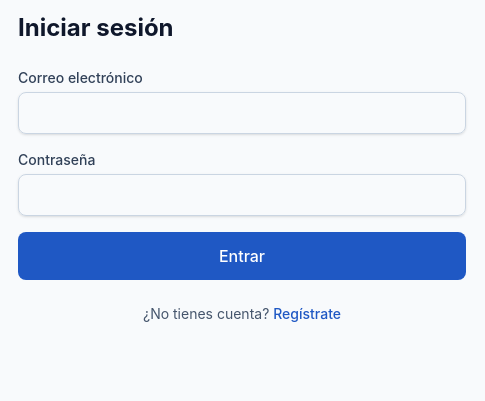
it: LoginPage › muestra el mensaje del servidor cuando las credenciales son inválidas
This screenshot has width=485, height=401.
Type "ana@test.dev" into the field labelled "Correo electrónico" at (242, 113), box top-left (18, 92), bottom-right (466, 134)
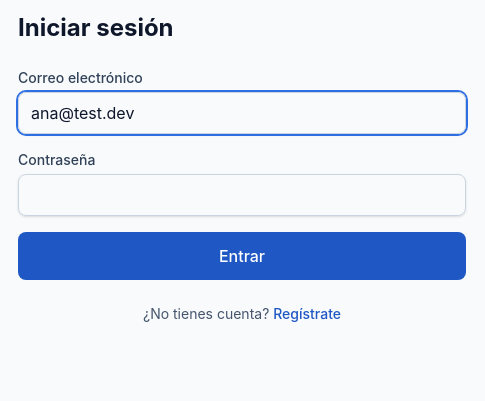
Type "Incorrecta1" into the password field labelled "Contraseña" at (242, 195), box top-left (18, 174), bottom-right (466, 216)
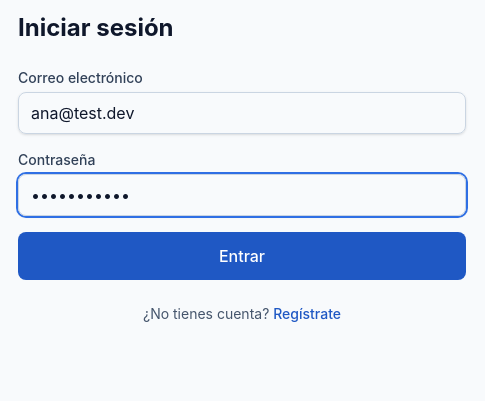
Click the button "Entrar" at (242, 256), box top-left (18, 232), bottom-right (466, 280)
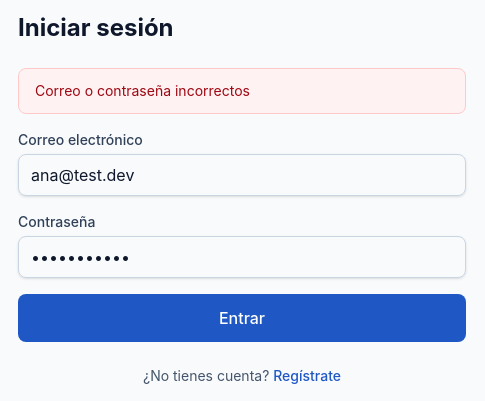
Check: the message reads "Correo o contraseña incorrectos", box top-left (35, 82), bottom-right (250, 99)
